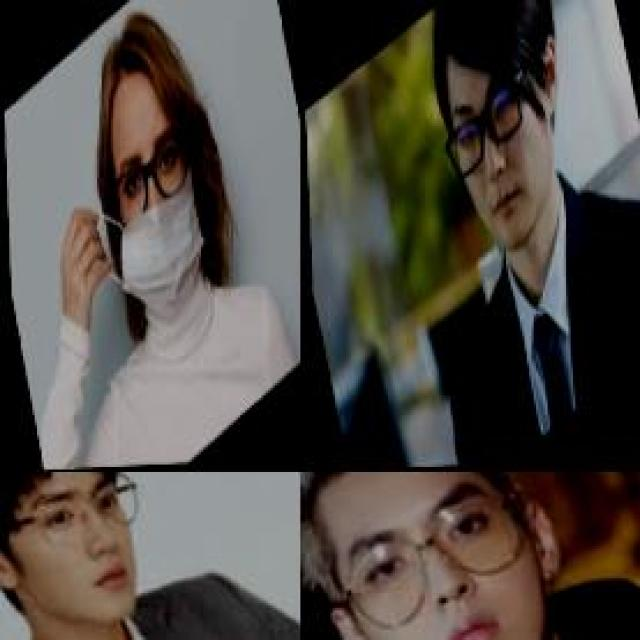Glasses: (314, 477, 552, 637), (437, 54, 544, 196), (0, 472, 148, 566), (104, 119, 198, 248)
